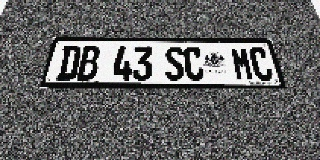3: (132, 46, 152, 81)
4: (112, 46, 133, 80)
B: (76, 46, 101, 80)
C: (248, 47, 275, 81), (183, 47, 205, 81)
D: (56, 46, 82, 80)
M: (230, 47, 255, 81)
S: (165, 47, 185, 81)
